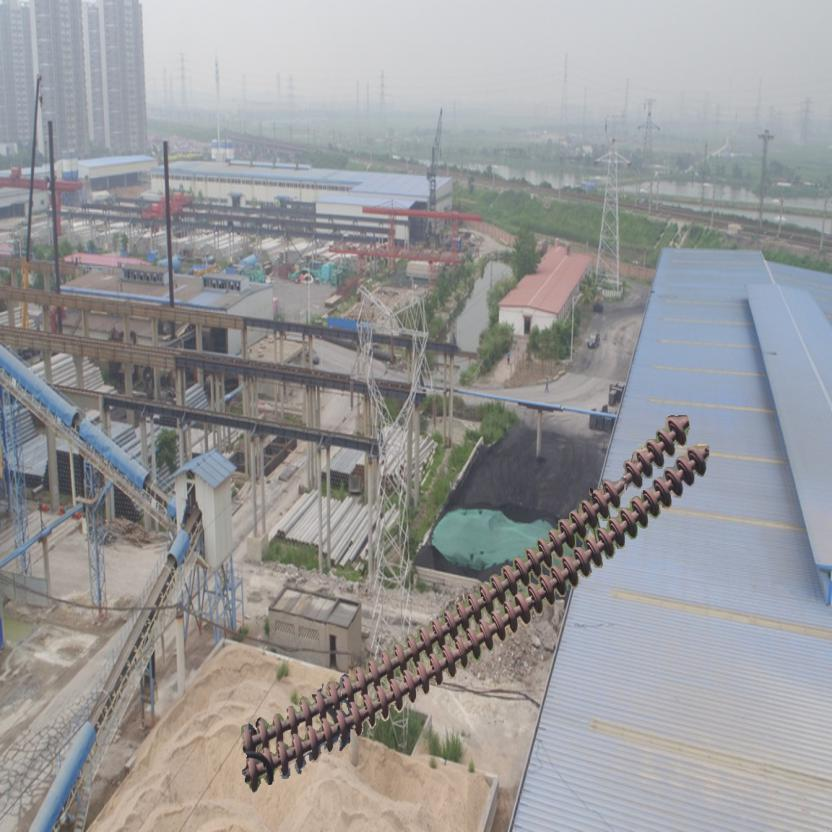defect: (600, 460, 646, 506)
